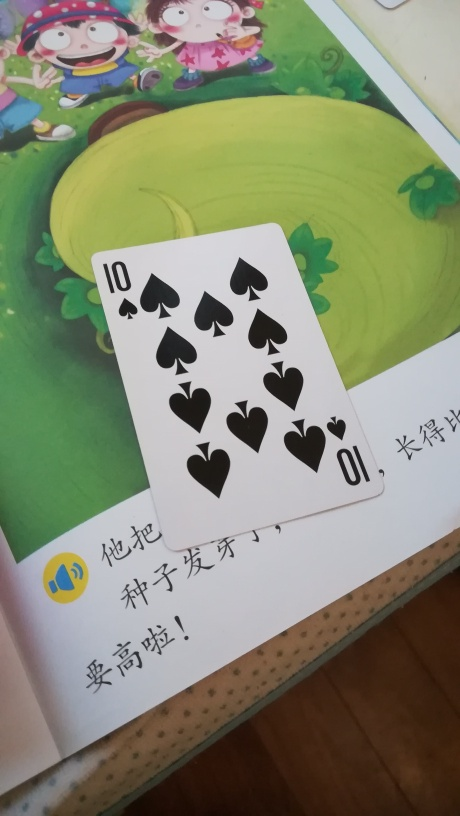ht 10: (87, 219, 388, 555)
